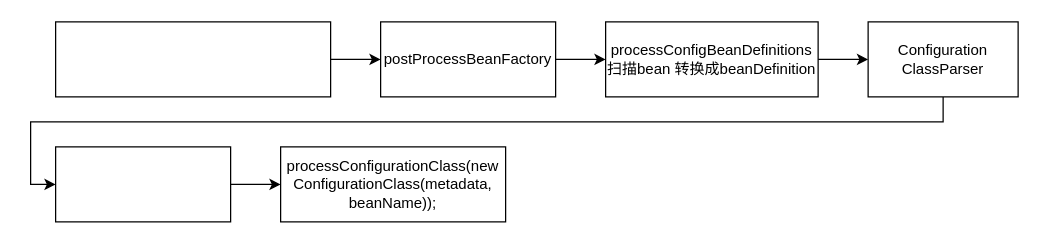
The diagram is 1040 pixels wide and 244 high, and some of its shapes have lost their labels. The shapes that lost their labels are listed below. From the top down, each one's centre as x and y in pixels, then its label:
point 192,59: ConfigurationClassPostProcessor
point 142,184: parser.parse(candidates);
